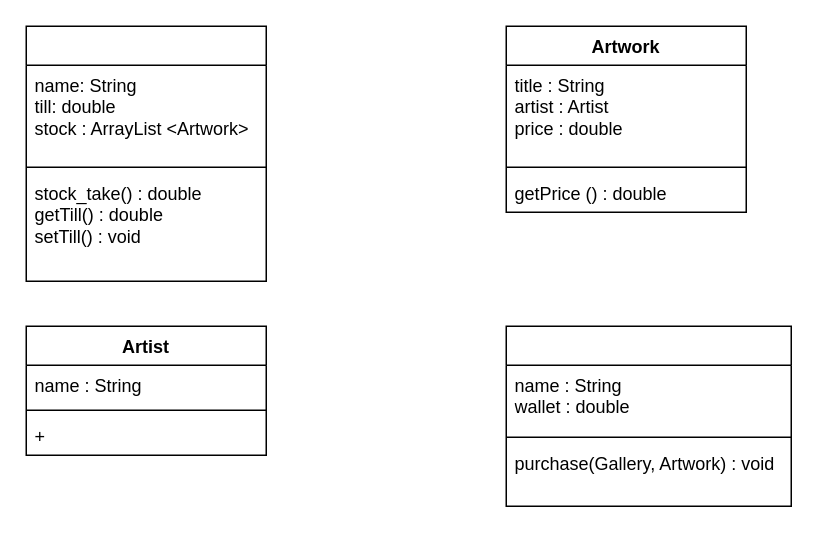
This 818x537 diagram has some shape labels left out. Here are the shapes that lost their labels. From the top down, the box of each, then its label:
(25, 25, 266, 281): Gallery
(505, 325, 791, 506): Customer
